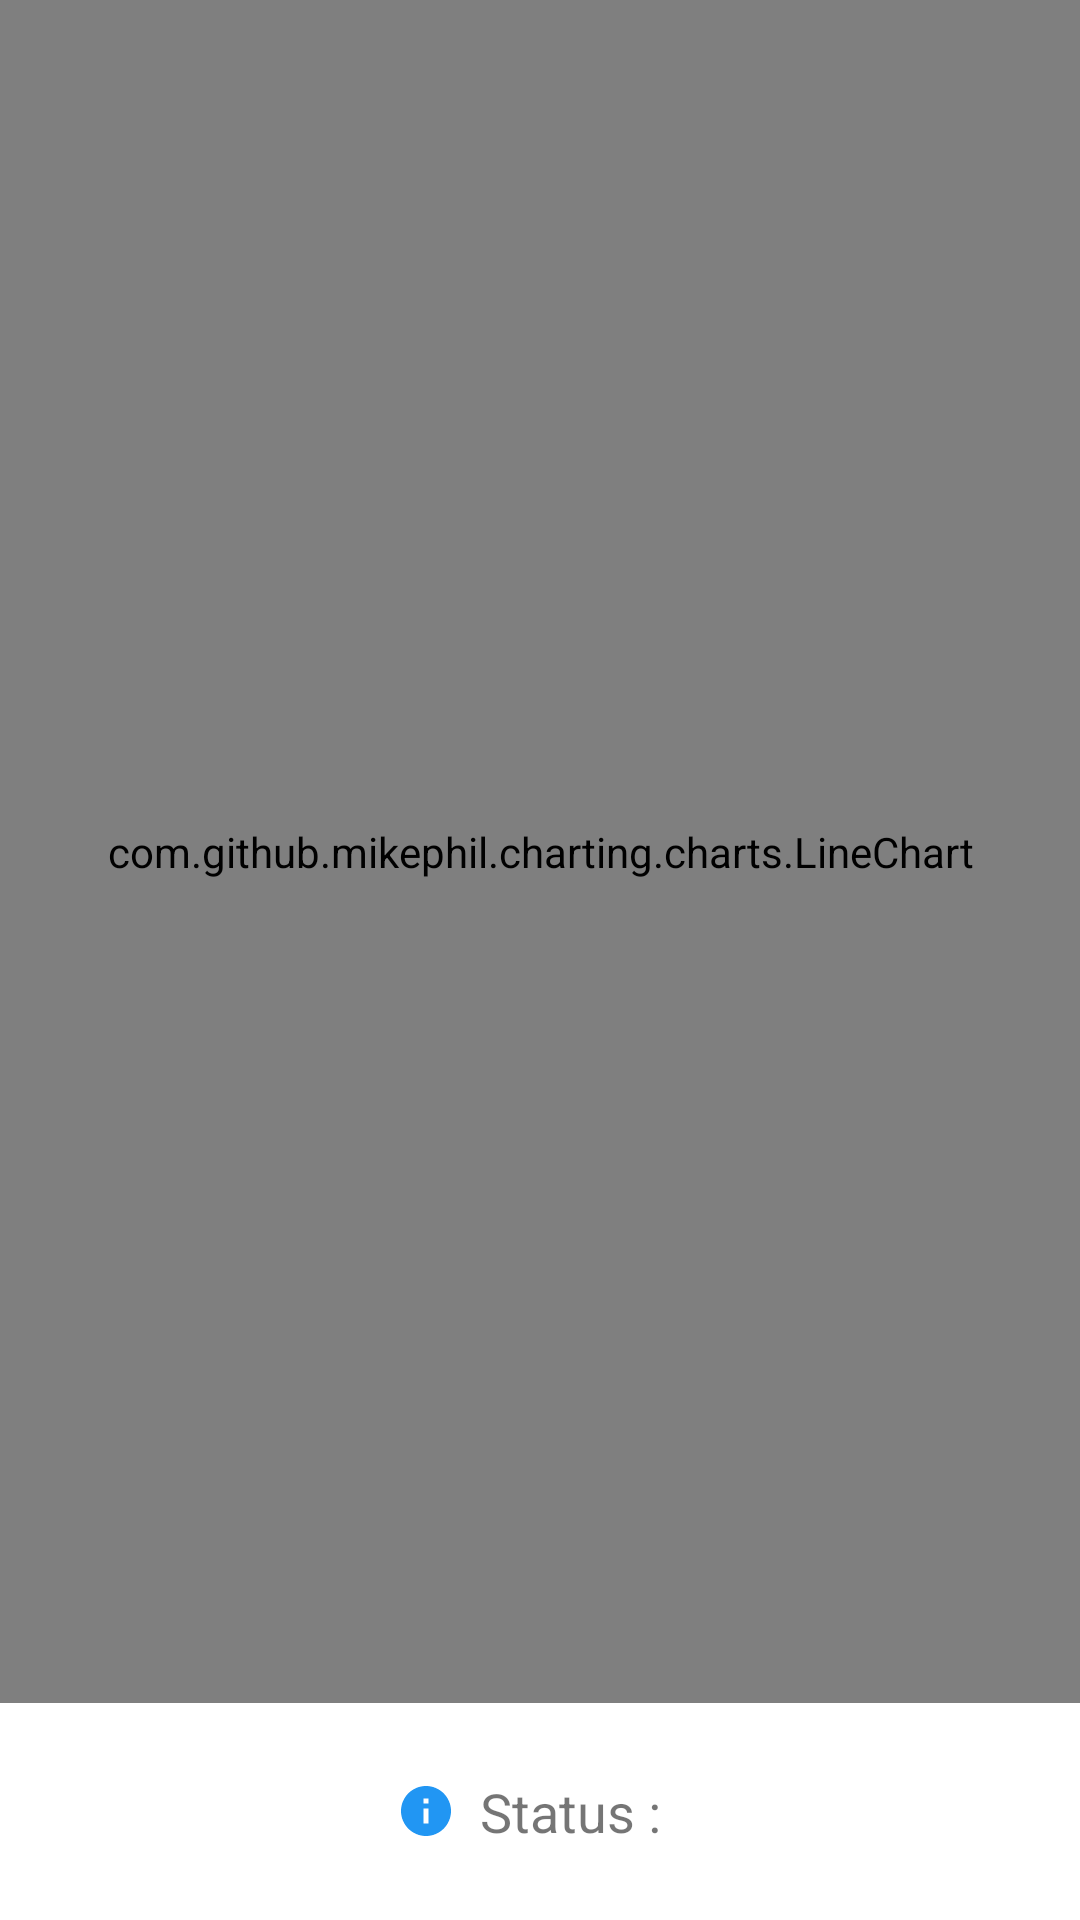

Screen size 1080w x 1920h. Icon name, then its center in pixels as [x,y]:
info: [426,1811]
